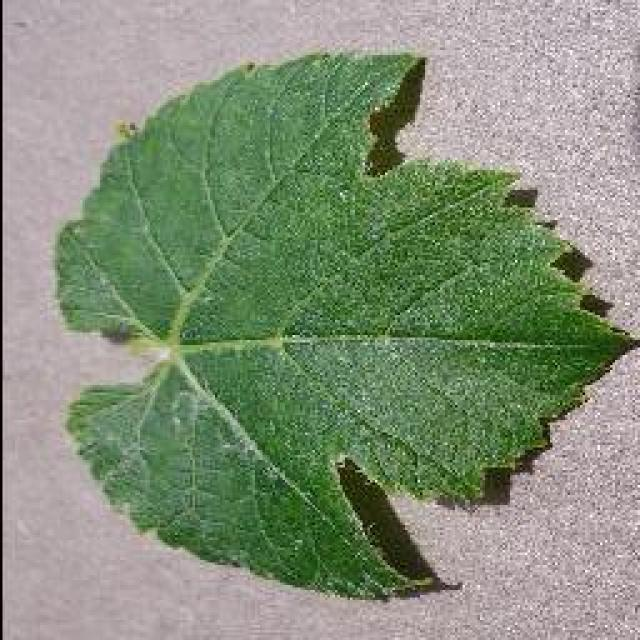Grape___healthy: (58, 52, 628, 595)
